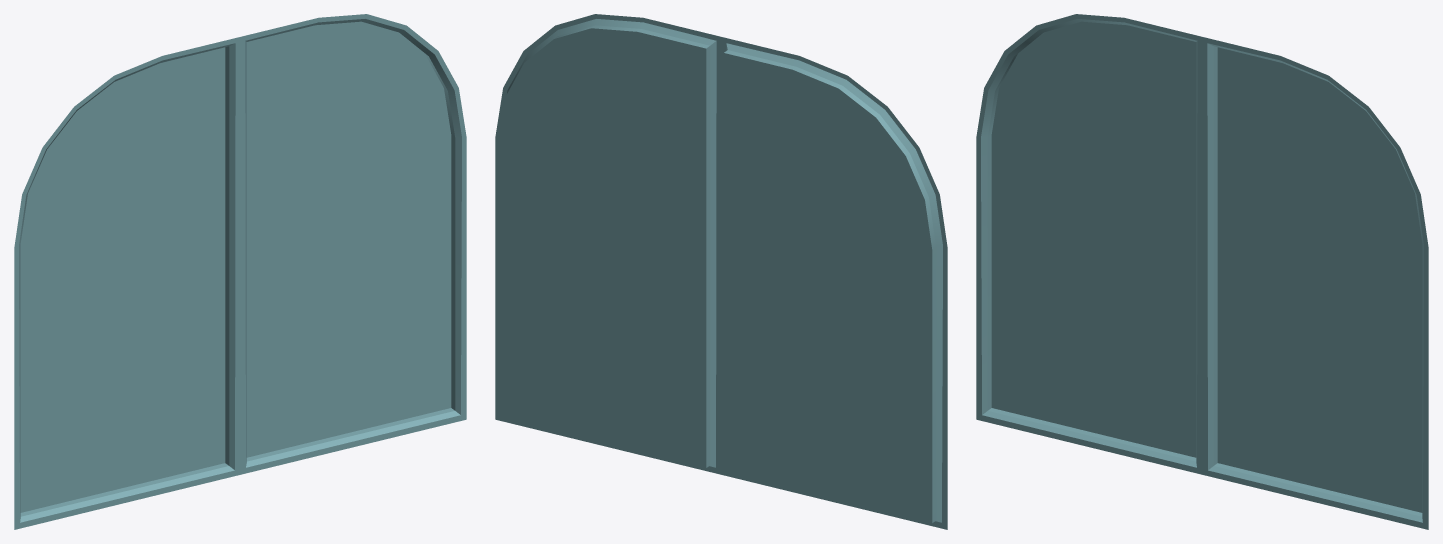
Rendered from door_doors.fbx.
3 renders of one model, left to right at view 1: azimuth 30°, elevation 25°; view 2: azimuth 150°, elevation 25°; view 3: azimuth 330°, elevation 25°, orthographic.
Visible parts, largest first — view 1: door_doors; view 2: door_doors; view 3: door_doors.
Boxes of the visible parts, bbox=[...] form: door_doors: bbox=[14, 14, 466, 529]; door_doors: bbox=[495, 14, 947, 529]; door_doors: bbox=[976, 14, 1428, 529].
Bounding box in the file's own units: 380 × 352 × 9.41.
